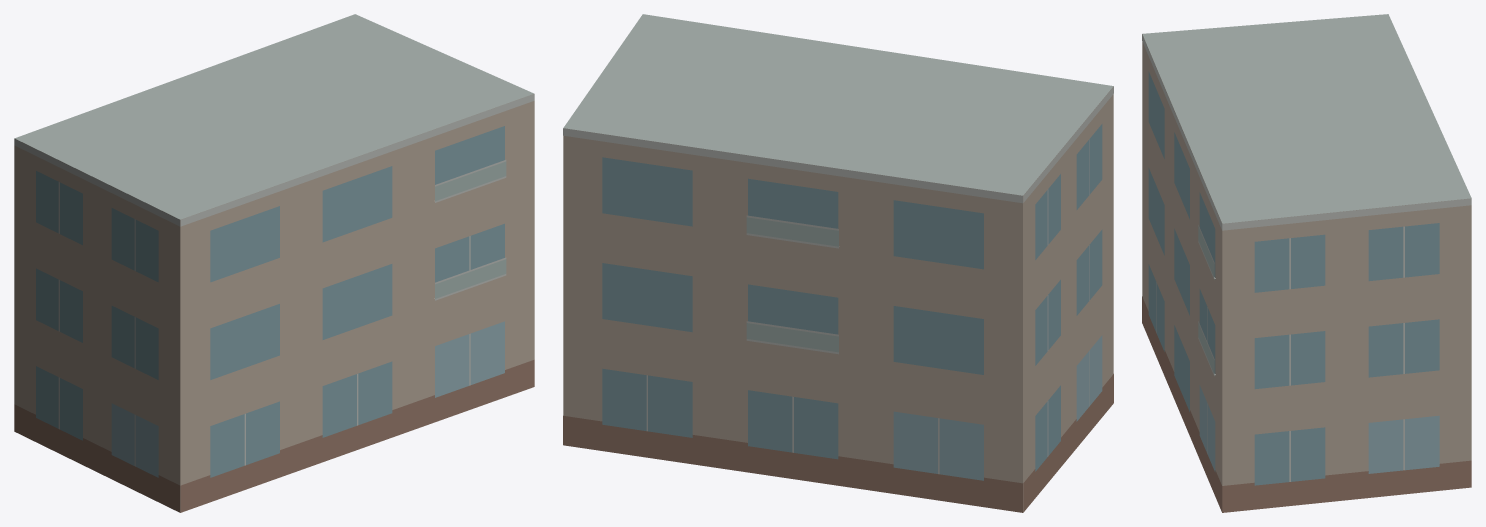
File: survey-upis-32607825.glb
3 views of the same model, side by side, from view 1: azimuth 30°, elevation 25°; view 2: azimuth 150°, elevation 25°; view 3: azimuth 270°, elevation 25° (orthographic). The views are drawn at different scales.
Parts seen in each view (by area): view 1: survey-upis-32607825.tmp; view 2: survey-upis-32607825.tmp; view 3: survey-upis-32607825.tmp.
Part boxes in pixels (box(x1,y1,x2,y2)): survey-upis-32607825.tmp: box(14, 14, 534, 512); survey-upis-32607825.tmp: box(563, 14, 1113, 512); survey-upis-32607825.tmp: box(1142, 14, 1471, 512).
Bounding box in the file's own units: 15.88 × 10.2 × 10.55.
